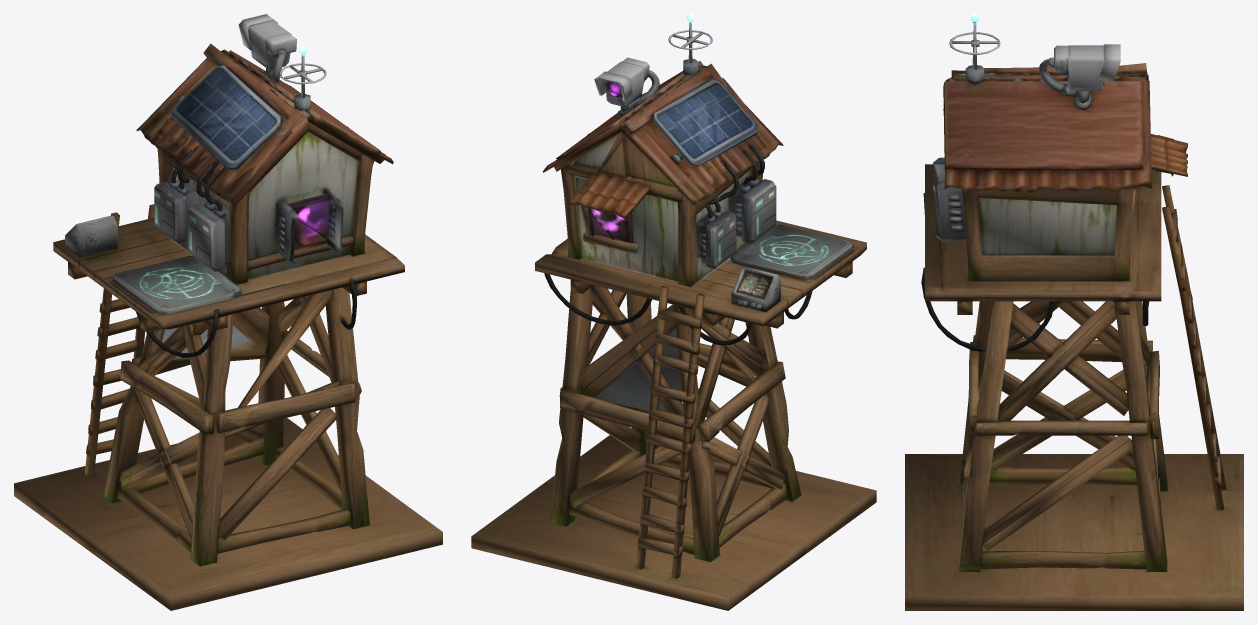
File: watchtower.glb
3 renders of one model, left to right at view 1: azimuth 30°, elevation 25°; view 2: azimuth 150°, elevation 25°; view 3: azimuth 270°, elevation 25°, orthographic. The views are drawn at different scales.
Visible parts, largest first — view 1: Body; view 2: Body, Glow; view 3: Body.
Boxes of the visible parts, left/top/right/bottom form: Body: left=14, top=14, right=442, bottom=610; Body: left=471, top=22, right=876, bottom=610; Glow: left=589, top=14, right=694, bottom=240; Body: left=905, top=22, right=1243, bottom=610.
Bounding box in the file's own units: 5.69 × 10 × 5.69.
Materials: 2 (2 with a texture image).
